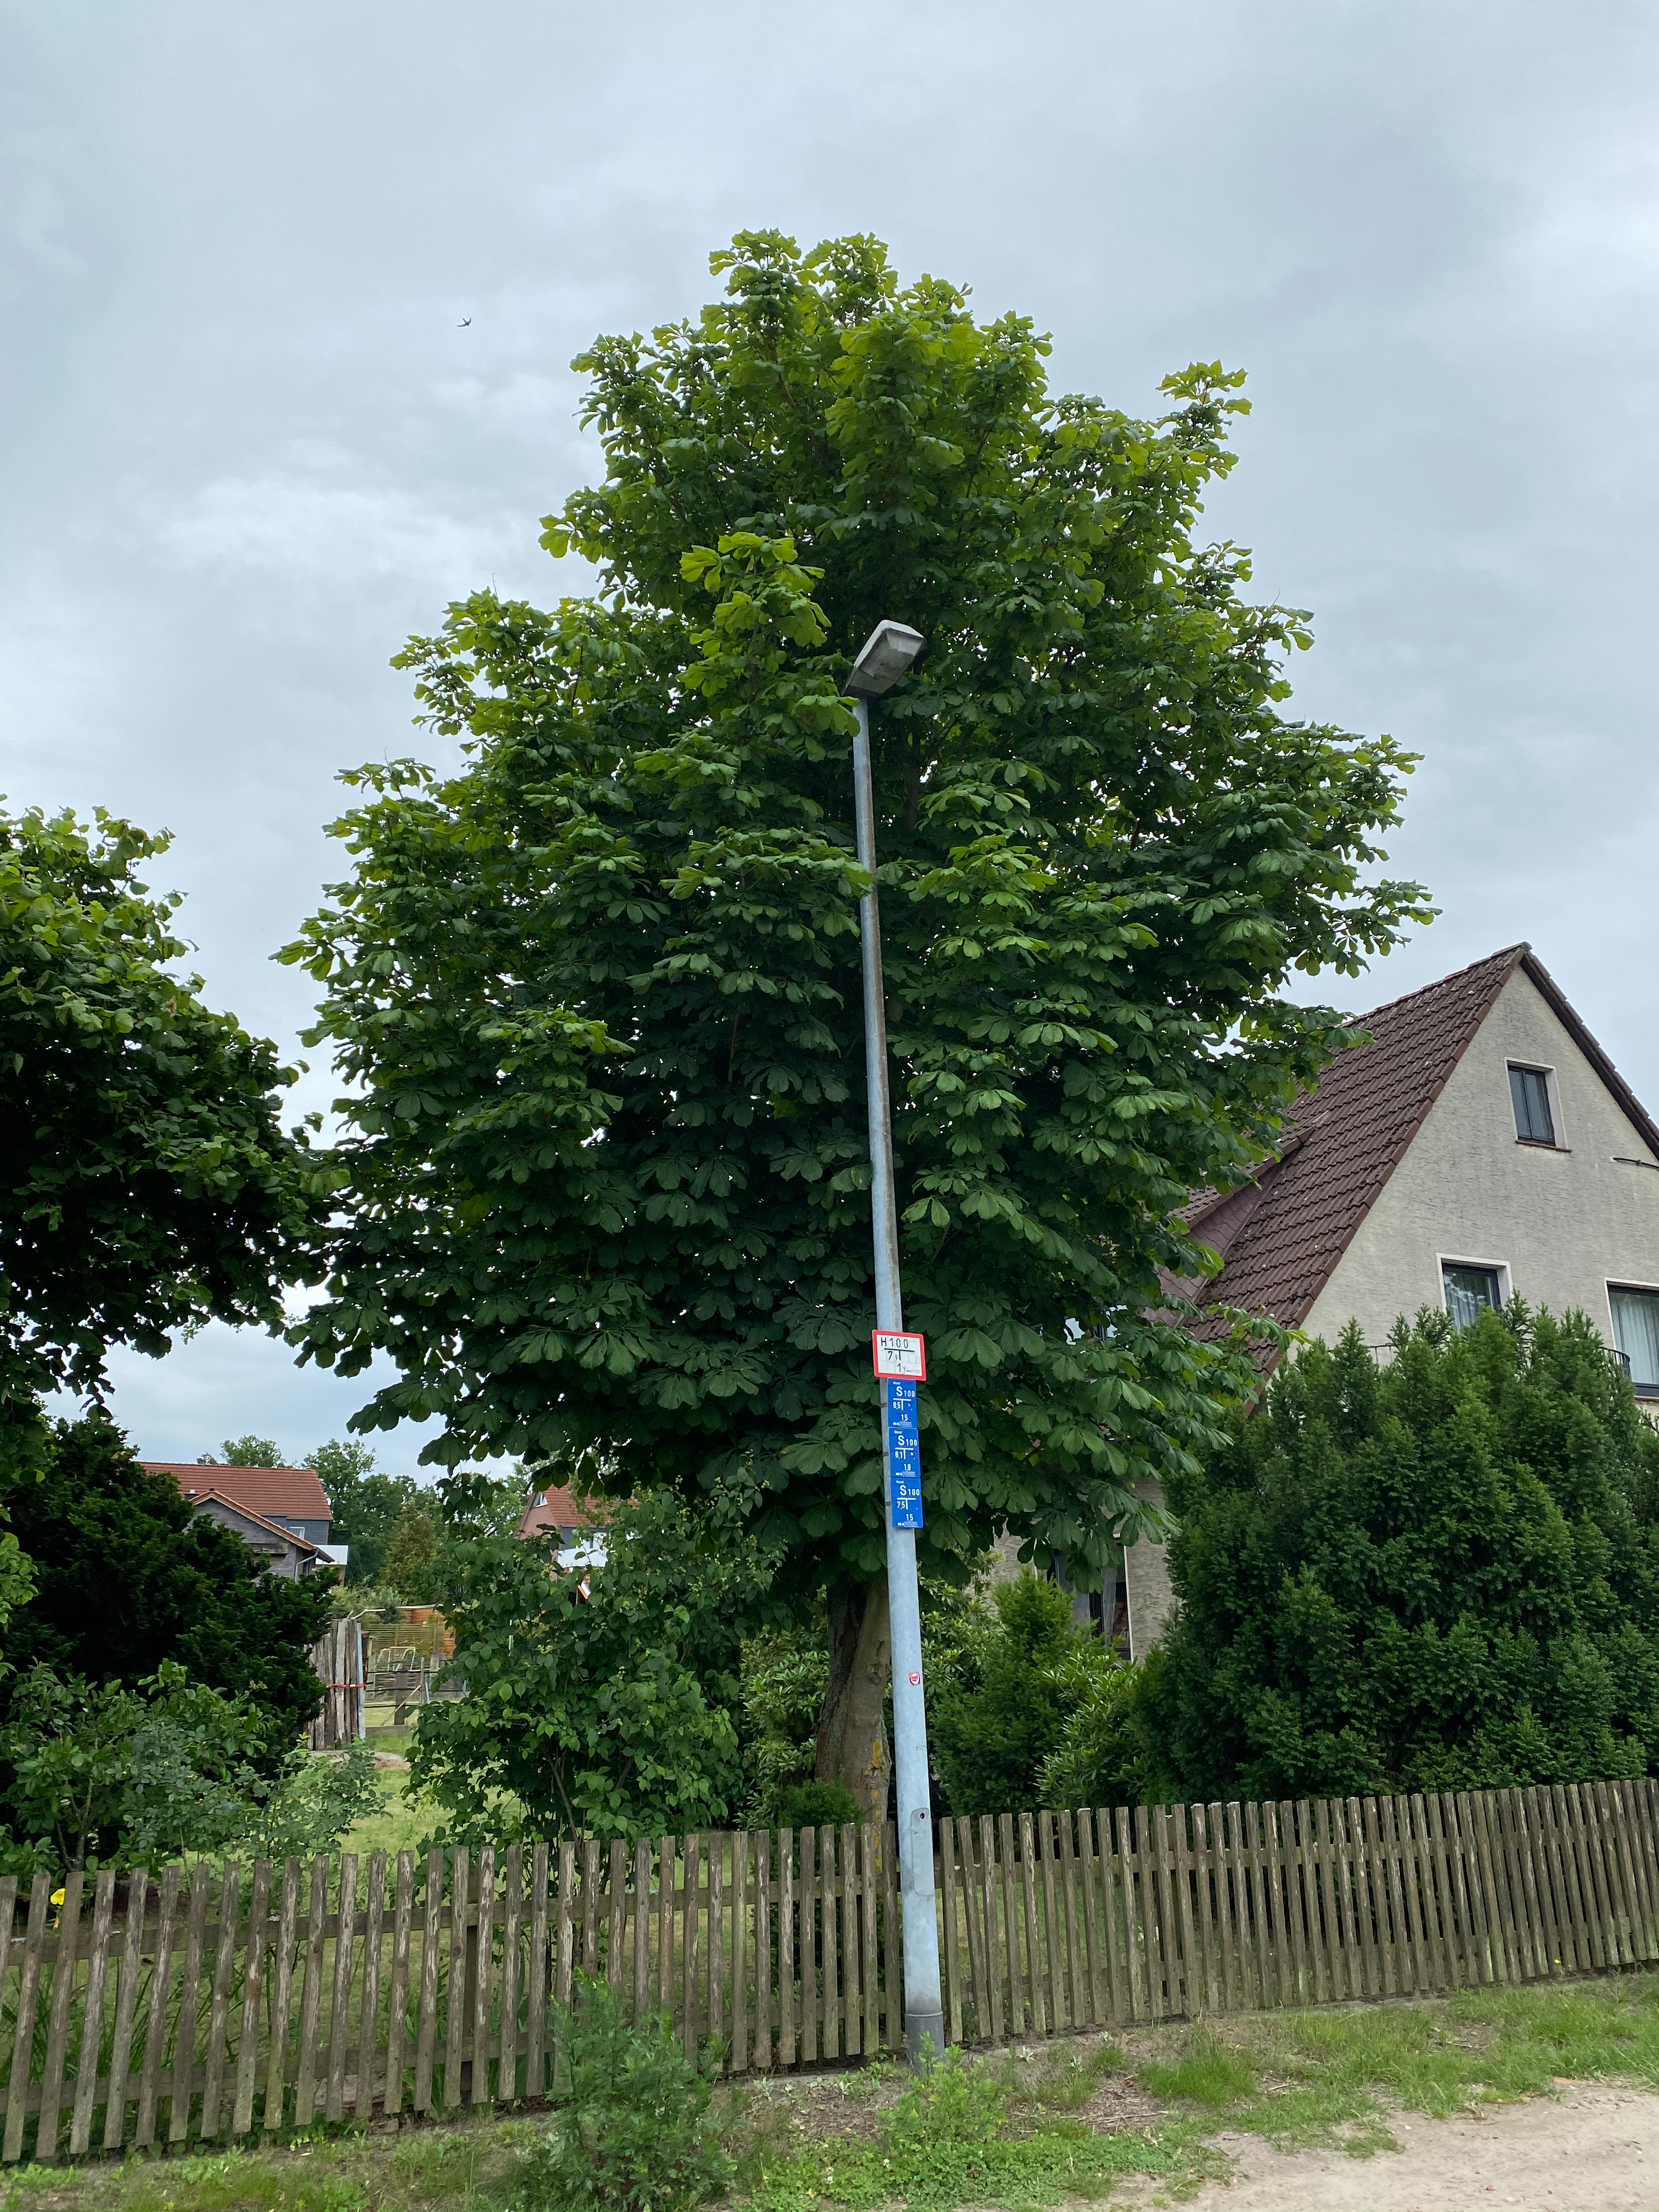tree: (272, 230, 1445, 1806), (0, 794, 352, 1522)
